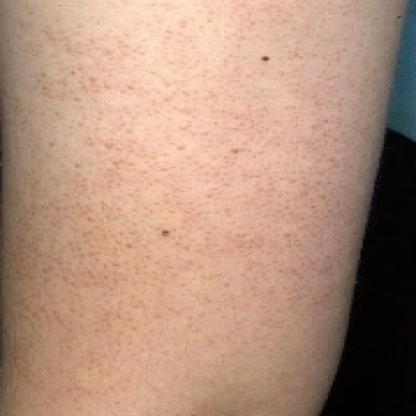Chicken Skin: (0, 0, 349, 416)
